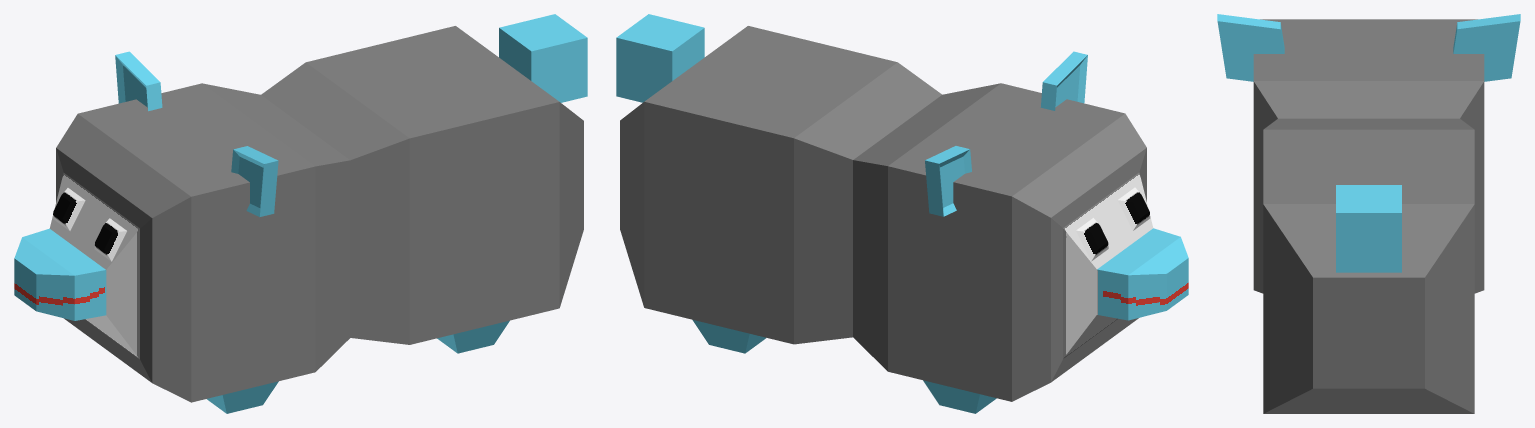
File: peepy.glb
3 views of the same model, side by side, from view 1: azimuth 30°, elevation 25°; view 2: azimuth 150°, elevation 25°; view 3: azimuth 270°, elevation 25° (orthographic).
Parts seen in each view (by area): view 1: Cube; view 2: Cube; view 3: Cube.
Boxes of the visible parts, left/top/right/bottom form: Cube: left=14, top=14, right=587, bottom=413; Cube: left=616, top=14, right=1188, bottom=413; Cube: left=1217, top=14, right=1520, bottom=413.
Size of the model in its own units: 15.16 by 7.07 by 7.17.
1 material, 1 textured.
